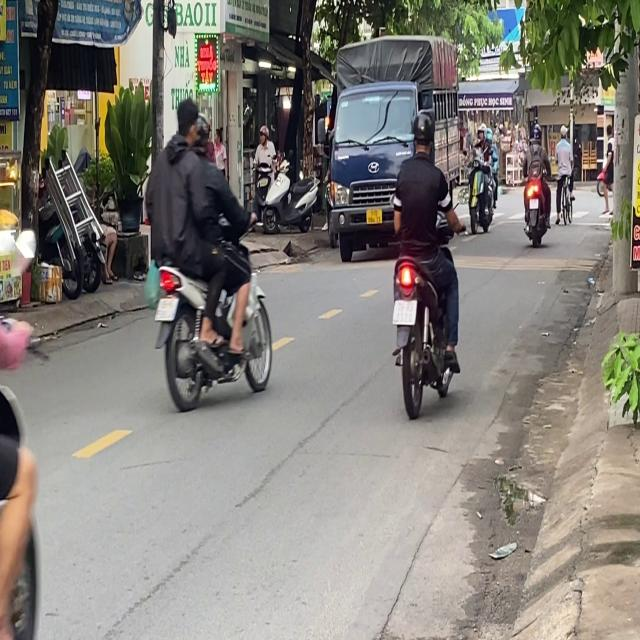helmet: (410, 109, 436, 158)
licenseplate: (142, 92, 274, 413), (386, 106, 464, 415)
motorcyclist: (173, 96, 200, 148)
nohelmet: (392, 299, 416, 324), (155, 297, 177, 318)
